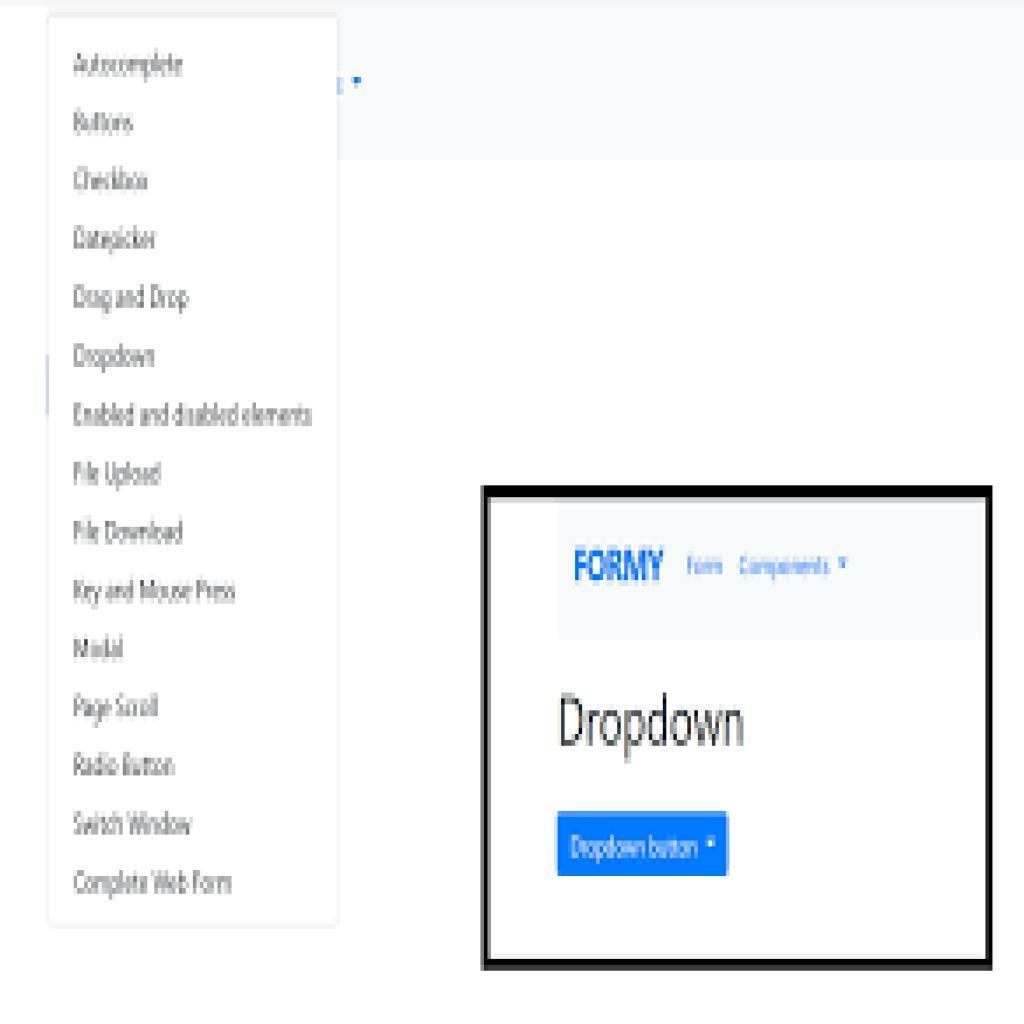dropdown: (558, 812, 731, 877)
